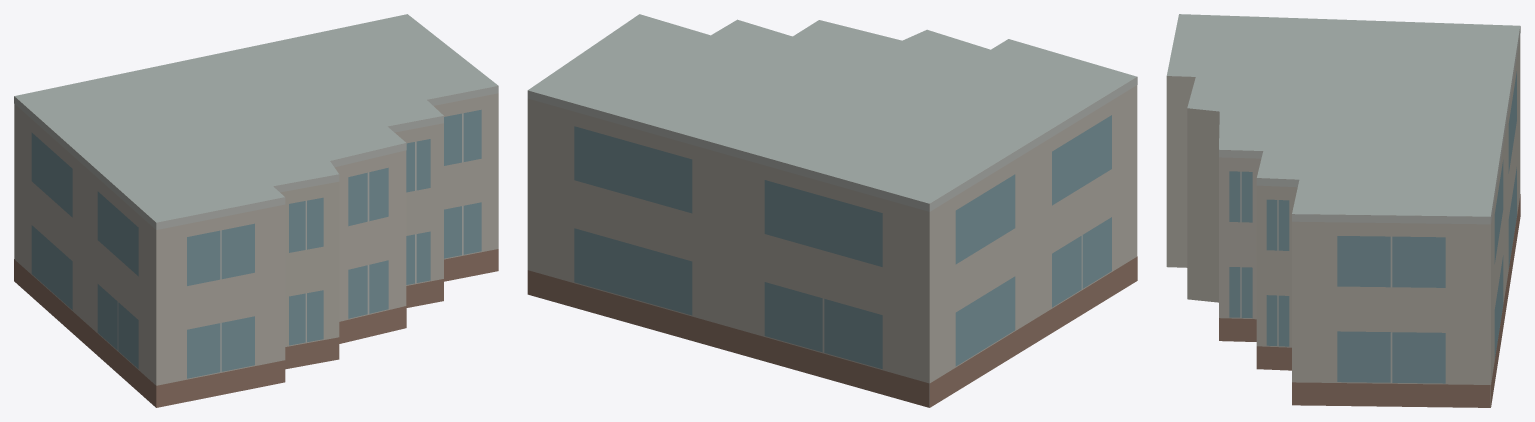
The model's file is survey-upis-32785763.glb.
3 views of the same model, side by side, from view 1: azimuth 30°, elevation 25°; view 2: azimuth 150°, elevation 25°; view 3: azimuth 270°, elevation 25° (orthographic). The views are drawn at different scales.
Parts seen in each view (by area): view 1: survey-upis-32785763.tmp; view 2: survey-upis-32785763.tmp; view 3: survey-upis-32785763.tmp.
Part boxes in pixels (box(x1,y1,x2,y2)): survey-upis-32785763.tmp: box(14, 14, 498, 407); survey-upis-32785763.tmp: box(527, 14, 1137, 407); survey-upis-32785763.tmp: box(1166, 14, 1520, 407).
Bounding box in the file's own units: 13.88 × 6.1 × 10.24.
